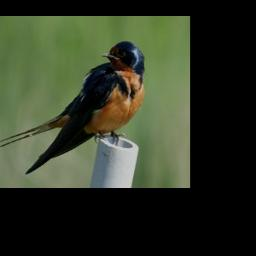Swallow: (0, 38, 147, 172)
